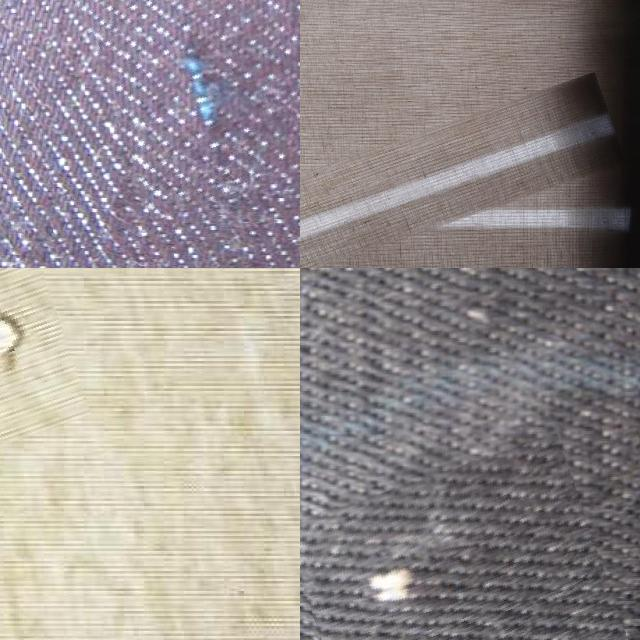other: (0, 268, 73, 448)
stains: (300, 453, 615, 640), (300, 117, 627, 268), (85, 0, 300, 205)
